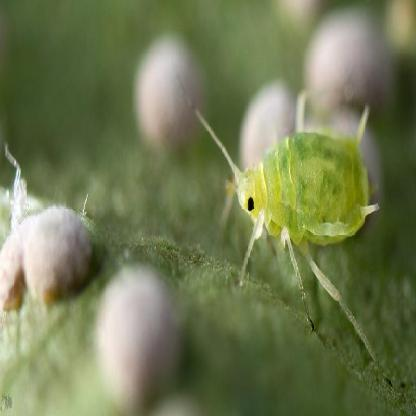aphid: (193, 82, 385, 322)
